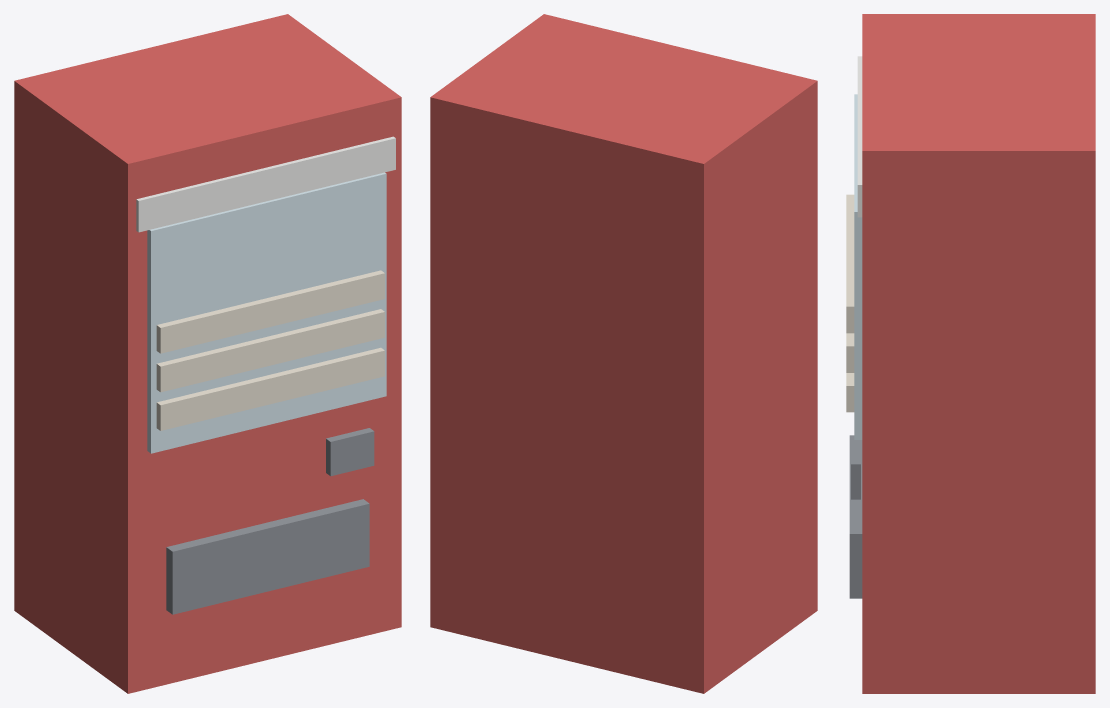
The model's file is prop-vending-drinks.glb.
3 renders of one model, left to right at view 1: azimuth 30°, elevation 25°; view 2: azimuth 150°, elevation 25°; view 3: azimuth 270°, elevation 25°, orthographic. The views are drawn at different scales.
Parts seen in each view (by area): view 1: vending-body, vending-window, vending-shelves, vending-panel, vending-light; view 2: vending-body; view 3: vending-body, vending-window, vending-panel, vending-shelves, vending-light.
Boxes of the visible parts, bbox=[...] form: vending-body: bbox=[14, 14, 401, 693]; vending-window: bbox=[147, 172, 386, 453]; vending-shelves: bbox=[156, 270, 384, 430]; vending-panel: bbox=[166, 428, 374, 614]; vending-light: bbox=[136, 136, 395, 232]; vending-body: bbox=[430, 14, 817, 693]; vending-body: bbox=[862, 14, 1095, 693]; vending-window: bbox=[854, 94, 862, 439]; vending-panel: bbox=[849, 435, 862, 598]; vending-shelves: bbox=[846, 194, 854, 412]; vending-light: bbox=[857, 56, 862, 217].
Bounding box in the file's own units: 1 × 1.85 × 0.77.
